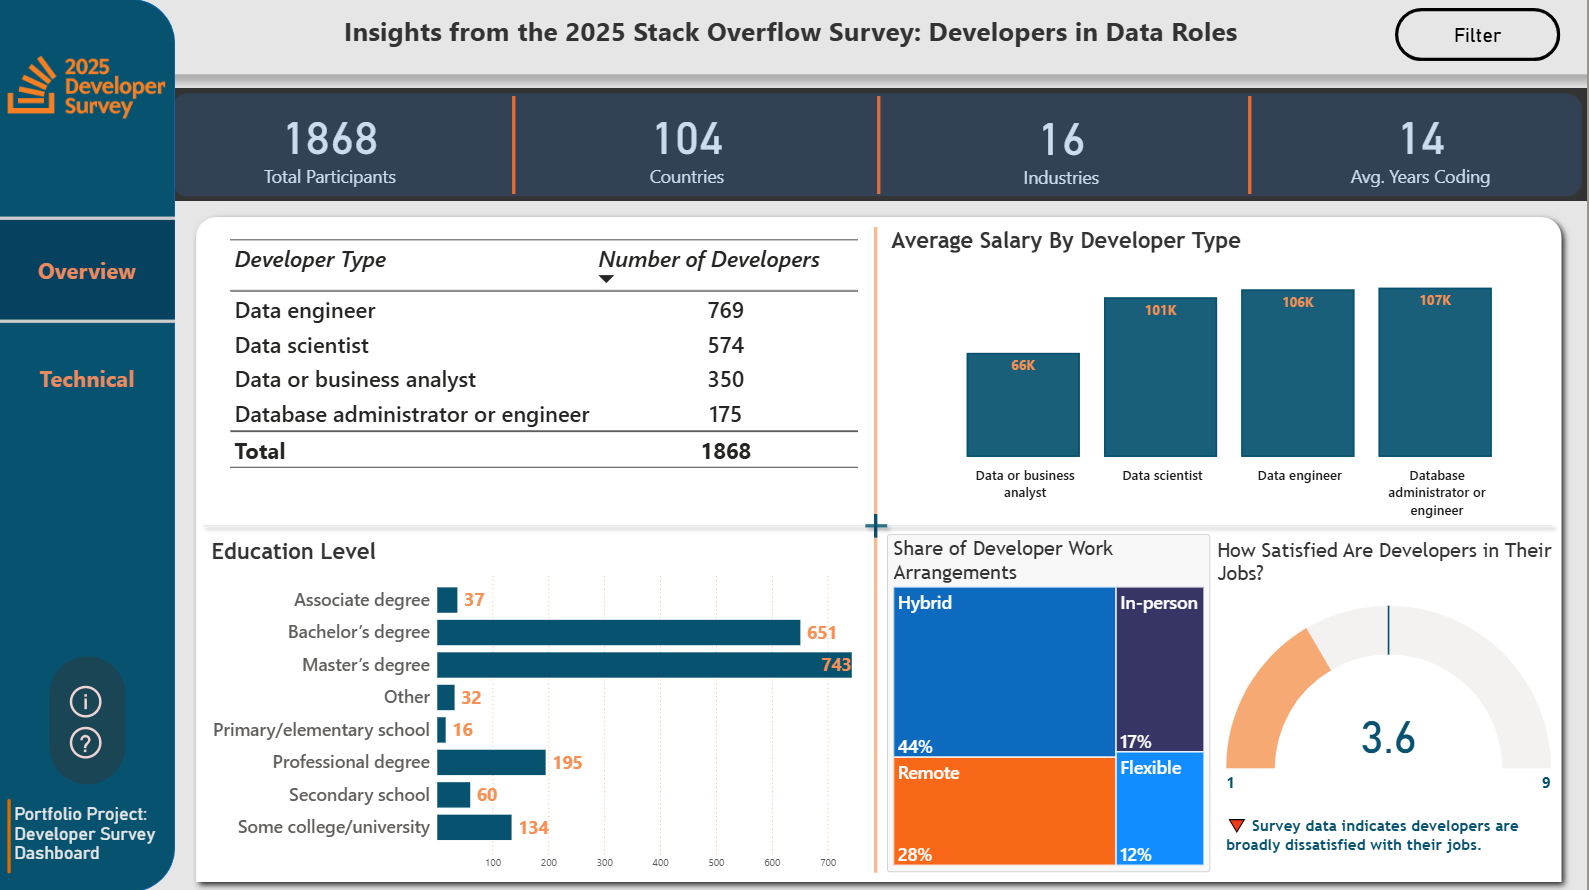

The page's visual inventory and layout, read from the dashboard file:
{"tool":"powerbi","page":{"name":"Overview","canvas":[1920,1080],"ordinal":0},"visuals":[{"type":"card","fields":{"Values":["CountNonNull(Stack_Overflow_Annual_Developer_Survey_2025.ResponseId)"]},"box":[246.5,114.7,306.8,120],"z":0,"group":"g1"},{"type":"shape","box":[225.7,251.4,1675.7,828.6],"z":0},{"type":"actionButton","box":[0,265.7,212.9,124.3],"z":0,"group":"g2"},{"type":"actionButton","box":[0,397.1,212.9,124.3],"z":0,"group":"g3"},{"type":"group","id":"g1","title":"Group 2","box":[202.9,107.1,1717.1,137.1],"z":1000},{"type":"card","fields":{"Values":["Count(Stack_Overflow_Annual_Developer_Survey_2025.Country)"]},"box":[678.6,113.8,306.8,120],"z":1000,"group":"g1"},{"type":"shape","box":[0,251.4,212.9,27.1],"z":1000,"group":"g2"},{"type":"textbox","box":[0,0,1920,91.4],"z":2000},{"type":"card","fields":{"Values":["Count(Stack_Overflow_Annual_Developer_Survey_2025.Industry)"]},"box":[1132.2,115.3,305.3,120],"z":2000,"group":"g1"},{"type":"shape","box":[0,375.7,212.9,27.1],"z":2000,"group":"g2"},{"type":"shape","box":[0,0,212.9,1080],"z":3000},{"type":"card","fields":{"Values":["Avg(Stack_Overflow_Annual_Developer_Survey_2025.YearsCode)"]},"box":[1566.4,114.2,306.3,120],"z":3000,"group":"g1"},{"type":"shape","box":[202.9,107.1,1717.1,137.1],"z":4000,"group":"g1"},{"type":"actionButton","title":"Filter","box":[1688.6,11.4,200,64.3],"z":5000},{"type":"image","box":[0,62.9,212.9,87.1],"z":6000},{"type":"tableEx","fields":{"Values":["Stack_Overflow_Annual_Developer_Survey_2025.DevType","CountNonNull(Stack_Overflow_Annual_Developer_Survey_2025.DevType)"]},"box":[270,281.4,780,318.6],"z":7000},{"type":"barChart","title":"Education Level","fields":{"Category":["Stack_Overflow_Annual_Developer_Survey_2025.EdLevel"],"Y":["Stack_Overflow_Annual_Developer_Survey_2025.EDU"]},"box":[237.1,651.4,824.3,405.7],"z":8000},{"type":"columnChart","title":"Average Salary By Developer Type","fields":{"Category":["Stack_Overflow_Annual_Developer_Survey_2025.DevType"],"Y":["Stack_Overflow_Annual_Developer_Survey_2025.Average Salary (Non-Zero)"]},"box":[1074.3,275.7,807.1,360],"z":9000},{"type":"shape","box":[588.6,117.1,67.1,118.6],"z":10000},{"type":"shape","box":[1030,117.1,67.1,118.6],"z":11000},{"type":"shape","box":[1478.6,117.1,67.1,118.6],"z":12000},{"type":"group","id":"g2","title":"Group 3","box":[0,251.4,212.9,151.4],"z":13000},{"type":"group","id":"g3","title":"Group 3","box":[0,397.1,212.9,124.3],"z":14000},{"type":"shape","box":[1004.2,275.7,112.9,781.4],"z":15000,"group":"g4"},{"type":"gauge","title":"How Satisfied Are Developers in Their Jobs?","fields":{"Y":["Avg(Stack_Overflow_Annual_Developer_Survey_2025.JobSat)"]},"box":[1478.6,721.4,402.9,260],"z":16000},{"type":"textbox","box":[1468.6,647.1,418.6,74.3],"z":17000},{"type":"textbox","box":[1478.6,981.4,391.4,65.7],"z":18000},{"type":"group","id":"g4","title":"Group 4","box":[237.1,275.7,1651.4,781.4],"z":19000},{"type":"shape","box":[237.1,607.1,1651.4,60],"z":19001,"group":"g4"},{"type":"shape","box":[1004.3,622.9,112.9,28.6],"z":20000},{"type":"shape","box":[1038.6,607.1,44.3,60],"z":21000},{"type":"shape","box":[60,794.3,92.9,155.7],"z":22000},{"type":"textbox","box":[12.9,967.1,202.9,112.9],"z":23000},{"type":"shape","box":[0,967.1,24.3,90],"z":24000},{"type":"actionButton","box":[80,824.3,52.9,50],"z":25000},{"type":"actionButton","box":[80,874.3,52.9,50],"z":26000},{"type":"treemap","title":"Share of Developer Work Arrangements","fields":{"Values":["CountNonNull(Stack_Overflow_Annual_Developer_Survey_2025.RemoteWork)"],"Group":["Stack_Overflow_Annual_Developer_Survey_2025.RemoteWork"]},"box":[1074.3,647.1,391.4,408.6],"z":27000}]}

Visuals, with their boxes in screenshot pixels (x1, y1, x2, y2), scaled from the page's 1920x1080 canvas onto the 1589x890 screenshot:
card - CountNonNull(Stack_Overflow_Annual_Developer_Survey_2025.ResponseId): 204, 95, 458, 193
shape: 187, 207, 1574, 889
actionButton: 0, 219, 176, 321
actionButton: 0, 327, 176, 430
"Group 2" group: 168, 88, 1588, 201
card - Count(Stack_Overflow_Annual_Developer_Survey_2025.Country): 562, 94, 816, 193
shape: 0, 207, 176, 230
textbox: 0, 0, 1588, 75
card - Count(Stack_Overflow_Annual_Developer_Survey_2025.Industry): 937, 95, 1190, 194
shape: 0, 310, 176, 332
shape: 0, 0, 176, 889
card - Avg(Stack_Overflow_Annual_Developer_Survey_2025.YearsCode): 1296, 94, 1550, 193
shape: 168, 88, 1588, 201
"Filter" actionButton: 1397, 9, 1563, 62
image: 0, 52, 176, 124
tableEx - Stack_Overflow_Annual_Developer_Survey_2025.DevType x CountNonNull(Stack_Overflow_Annual_Developer_Survey_2025.DevType): 223, 232, 869, 494
"Education Level" barChart: 196, 537, 878, 871
"Average Salary By Developer Type" columnChart: 889, 227, 1557, 524
shape: 487, 96, 543, 194
shape: 852, 96, 908, 194
shape: 1224, 96, 1279, 194
"Group 3" group: 0, 207, 176, 332
"Group 3" group: 0, 327, 176, 430
shape: 831, 227, 925, 871
"How Satisfied Are Developers in Their Jobs?" gauge: 1224, 594, 1557, 809
textbox: 1215, 533, 1562, 594
textbox: 1224, 809, 1548, 863
"Group 4" group: 196, 227, 1563, 871
shape: 196, 500, 1563, 550
shape: 831, 513, 925, 537
shape: 860, 500, 896, 550
shape: 50, 655, 127, 783
textbox: 11, 797, 179, 889
shape: 0, 797, 20, 871
actionButton: 66, 679, 110, 720
actionButton: 66, 720, 110, 762
"Share of Developer Work Arrangements" treemap: 889, 533, 1213, 870
